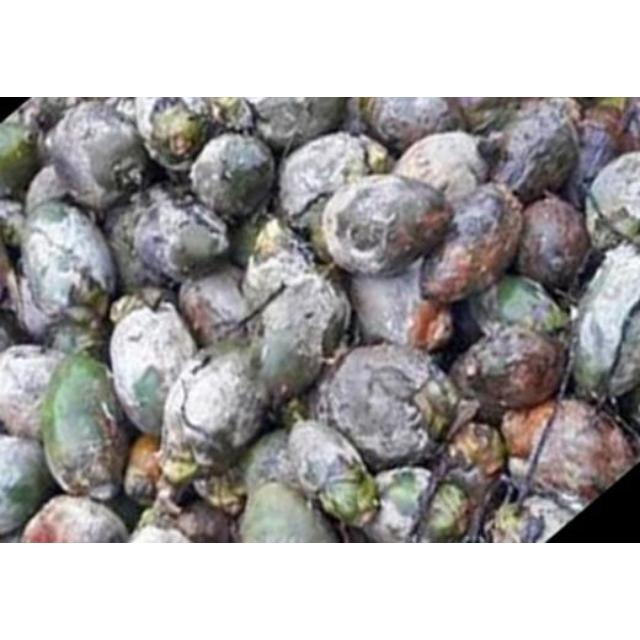damaged: (309, 341, 456, 472), (157, 344, 270, 484), (248, 268, 352, 407), (413, 182, 525, 306), (319, 175, 451, 277), (516, 398, 638, 504), (20, 200, 120, 326), (42, 104, 150, 214), (108, 302, 196, 436), (449, 319, 566, 417), (284, 416, 380, 530), (276, 133, 386, 230), (485, 100, 583, 204), (130, 188, 232, 282), (345, 264, 445, 352), (188, 132, 276, 222), (390, 131, 494, 205), (514, 195, 590, 291), (463, 274, 567, 342), (175, 268, 258, 348), (0, 344, 66, 442), (362, 466, 443, 544), (138, 97, 218, 173), (245, 98, 351, 152), (362, 98, 466, 152), (0, 434, 52, 540), (19, 495, 132, 543), (10, 272, 60, 346), (170, 500, 237, 544), (487, 496, 547, 542)
